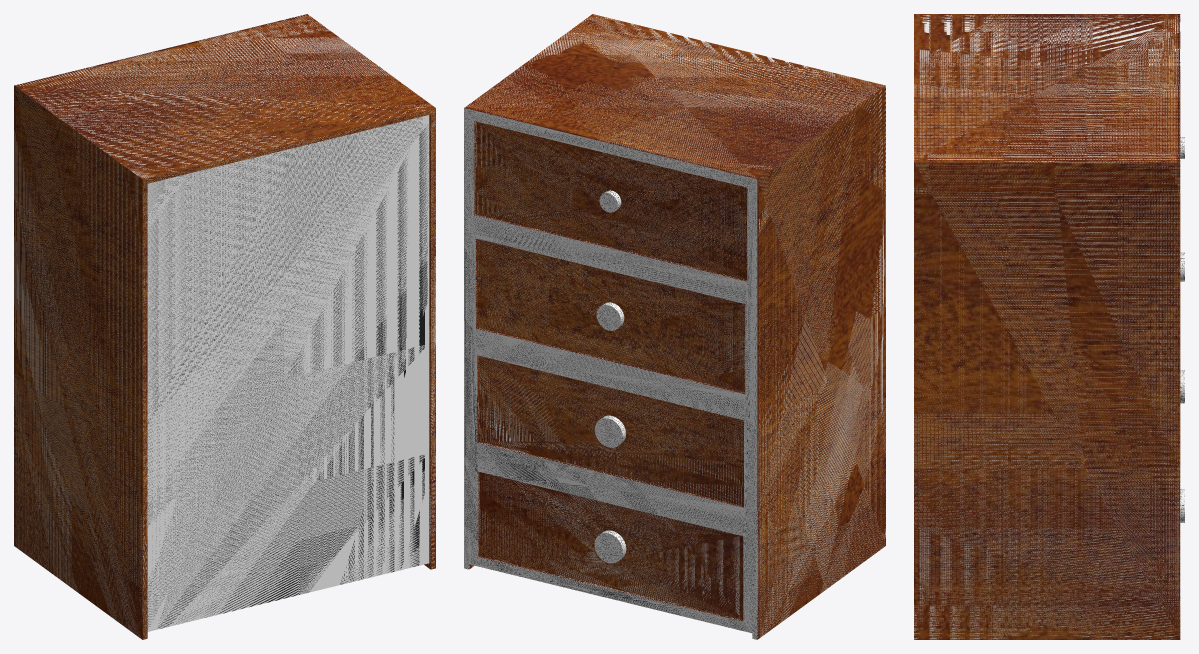
3 renders of one model, left to right at view 1: azimuth 30°, elevation 25°; view 2: azimuth 150°, elevation 25°; view 3: azimuth 270°, elevation 25°, orthographic. The views are drawn at different scales.
Parts seen in each view (by area): view 1: mesh1_mesh1-geometry; view 2: mesh1_mesh1-geometry; view 3: mesh1_mesh1-geometry.
Boxes of the visible parts, box(x1,y1,x2,y2) form: mesh1_mesh1-geometry: box(14, 14, 435, 639); mesh1_mesh1-geometry: box(464, 14, 885, 639); mesh1_mesh1-geometry: box(914, 14, 1184, 639).
Size of the model in its own units: 0.51 by 0.765 by 0.3931.
